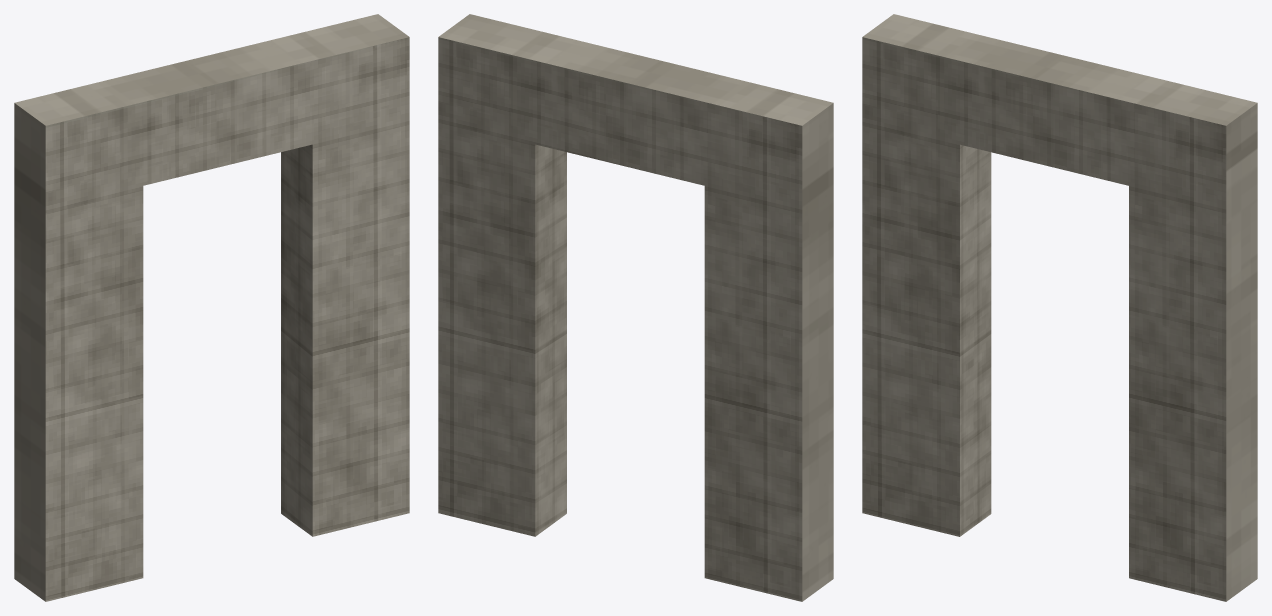
File: SM_JailDoorWall.glb
The picture shows the model from 3 angles, left to right: view 1: azimuth 30°, elevation 25°; view 2: azimuth 150°, elevation 25°; view 3: azimuth 330°, elevation 25°; orthographic projection.
Parts seen in each view (by area): view 1: SM_JailDoorWall; view 2: SM_JailDoorWall; view 3: SM_JailDoorWall.
Boxes of the visible parts, x1,y1,x2,y2 form: SM_JailDoorWall: (14, 14, 409, 601); SM_JailDoorWall: (438, 14, 833, 601); SM_JailDoorWall: (862, 14, 1257, 601).
Size of the model in its own units: 2 by 2.5 by 0.3.
Materials: 1 (1 with a texture image).
